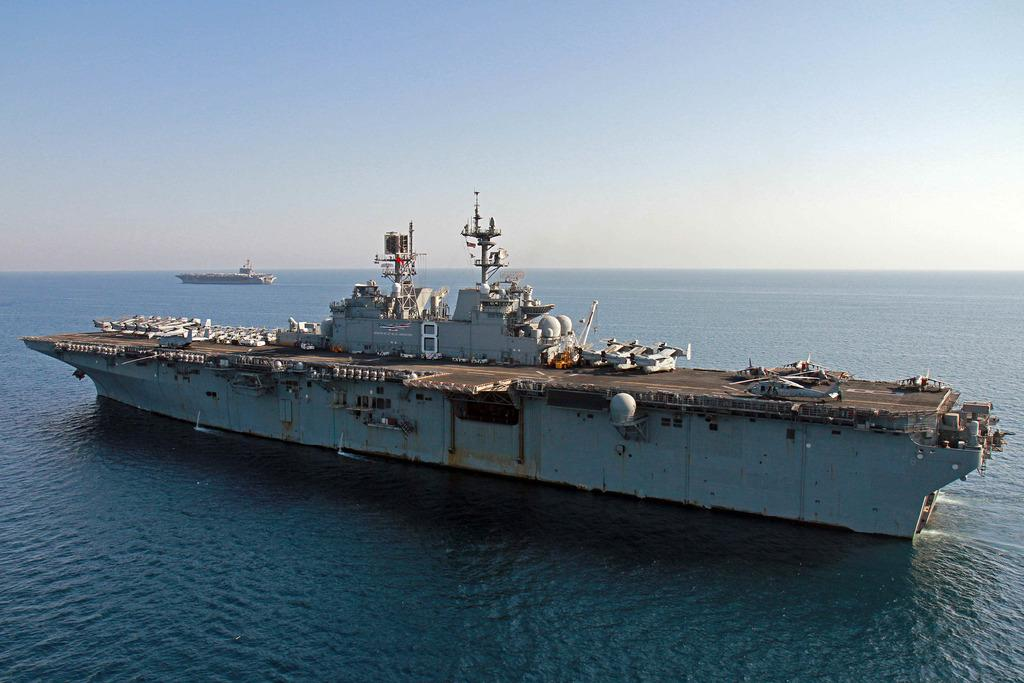Warship: (18, 189, 1012, 541), (176, 262, 274, 284)
